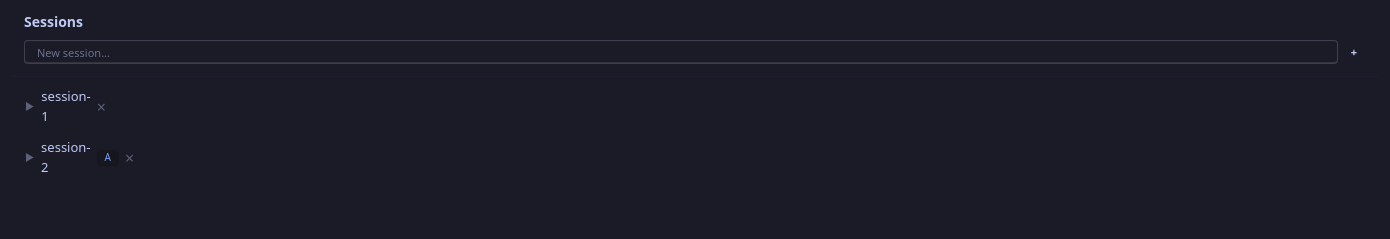
Test: Sidebar › expands session on click and shows pane details
The image size is (1390, 239).
What coordinates should you click on to do the following:
click the text "session-1"
I would click on:
 (66, 106)
Its box is [41,87,91,126].
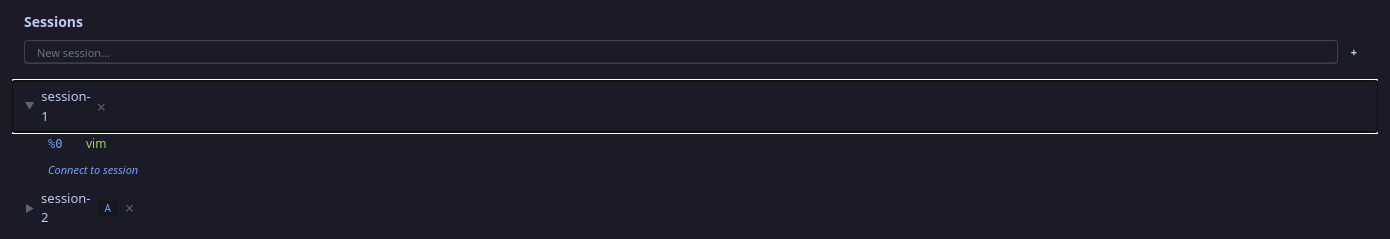
Check: the button "Connect to session" is shown, box [36,158,1378,182]
